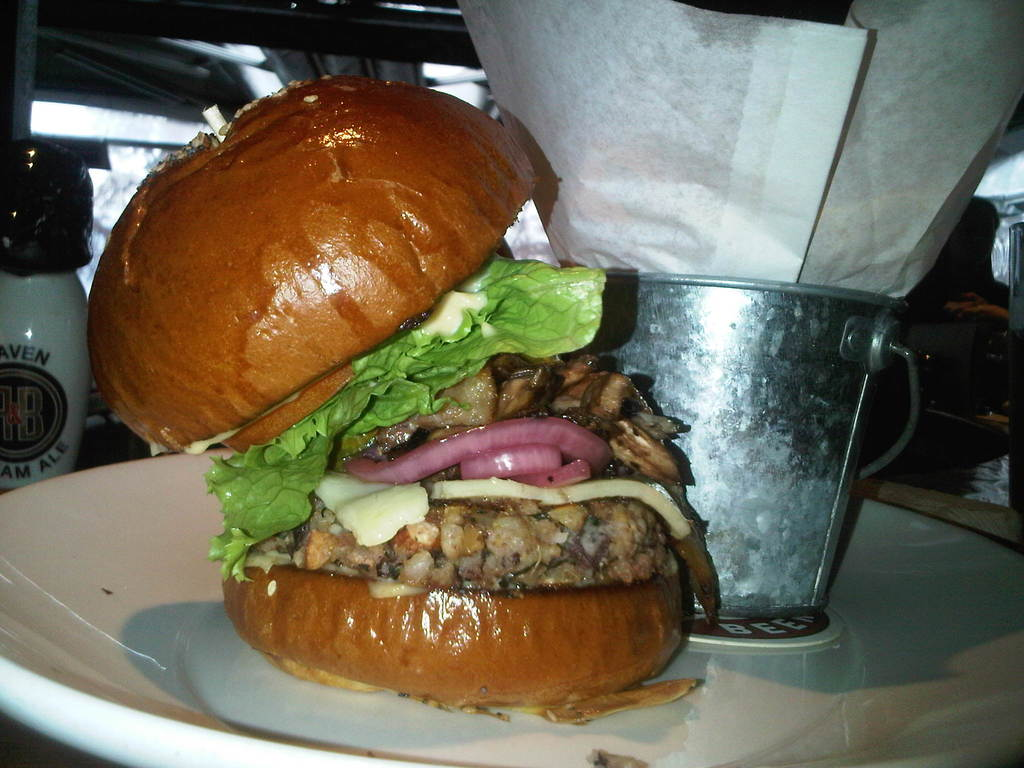Hamburger: (85, 75, 720, 724)
